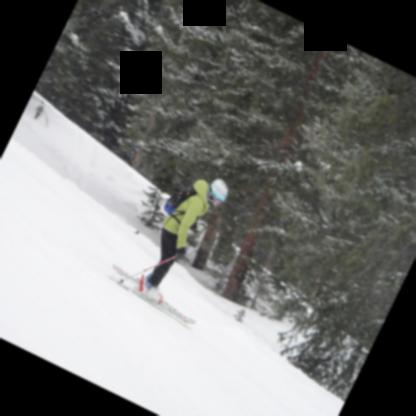backpack: (163, 188, 197, 214)
